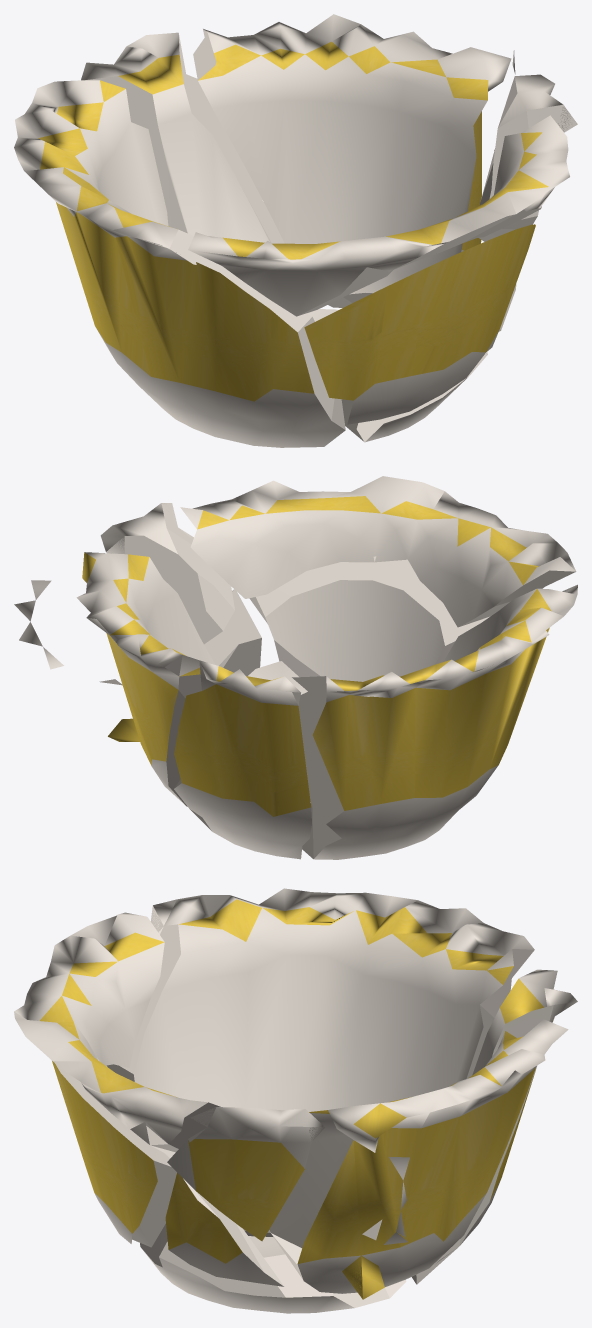
The model's file is TeaCup_Broken.fbx.
The picture shows the model from 3 angles, top to bottom: view 1: azimuth 30°, elevation 25°; view 2: azimuth 150°, elevation 25°; view 3: azimuth 270°, elevation 25°; orthographic projection. The views are drawn at different scales.
Visible parts, largest first — view 1: Cup1_cell.003, Cup1_cell.007, Cup1_cell.004, Cup1_cell.008, Cup1_cell.005, Cup1_cell.002, Cup1_cell.006; view 2: Cup1_cell.003, Cup1_cell.008, Cup1_cell.005, Cup1_cell.004, Cup1_cell.007, Cup1_cell.002, Cup1_cell.001, Cup1_cell.009, Cup1_cell.006; view 3: Cup1_cell.003, Cup1_cell.007, Cup1_cell.008, Cup1_cell.002, Cup1_cell.004, Cup1_cell.006, Cup1_cell.001, Cup1_cell.005, Cup1_cell.009.
Part boxes in pixels (<box>): Cup1_cell.003: <box>14,80,345,447</box>; Cup1_cell.007: <box>193,14,511,307</box>; Cup1_cell.004: <box>304,224,535,424</box>; Cup1_cell.008: <box>188,115,569,316</box>; Cup1_cell.005: <box>81,32,284,243</box>; Cup1_cell.002: <box>479,74,577,241</box>; Cup1_cell.006: <box>307,309,487,442</box>; Cup1_cell.003: <box>292,584,577,859</box>; Cup1_cell.008: <box>180,476,576,627</box>; Cup1_cell.005: <box>174,661,311,859</box>; Cup1_cell.004: <box>249,559,489,681</box>; Cup1_cell.007: <box>76,552,215,806</box>; Cup1_cell.002: <box>100,503,234,644</box>; Cup1_cell.001: <box>204,589,261,676</box>; Cup1_cell.009: <box>14,580,63,669</box>; Cup1_cell.006: <box>248,661,307,694</box>; Cup1_cell.003: <box>106,888,534,1232</box>; Cup1_cell.007: <box>269,1018,568,1299</box>; Cup1_cell.008: <box>14,912,220,1156</box>; Cup1_cell.002: <box>167,1107,325,1241</box>; Cup1_cell.004: <box>52,1061,176,1247</box>; Cup1_cell.006: <box>140,1224,406,1313</box>; Cup1_cell.001: <box>165,1172,284,1286</box>; Cup1_cell.005: <box>412,969,577,1284</box>; Cup1_cell.009: <box>384,1157,409,1244</box>.
Size of the model in its own units: 11.92 by 5.43 by 10.9.
